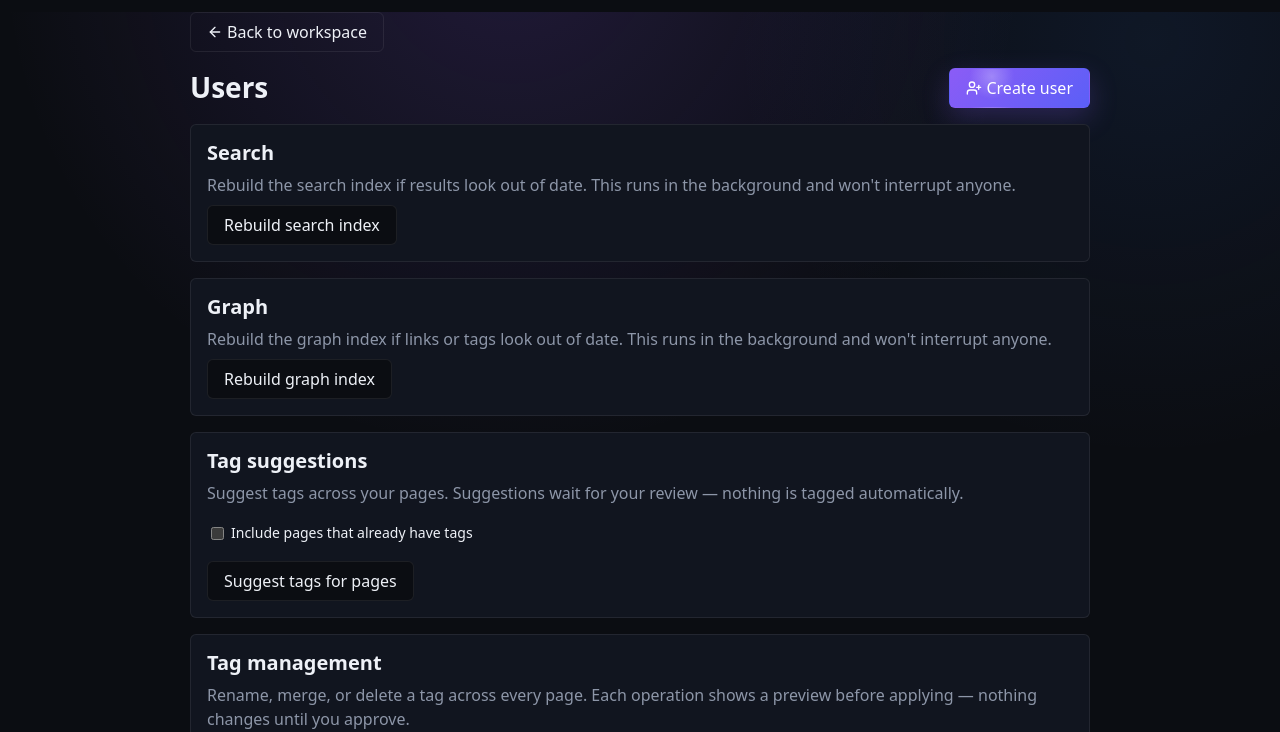
Scenario: Admin — Tag suggestions sweep-start (TAG-05) › toggling the scope on starts an all-pages sweep with the all-scope copy
Click the checkbox labelled "Include pages that already have tags" at (218, 533), box [211,526,224,540]
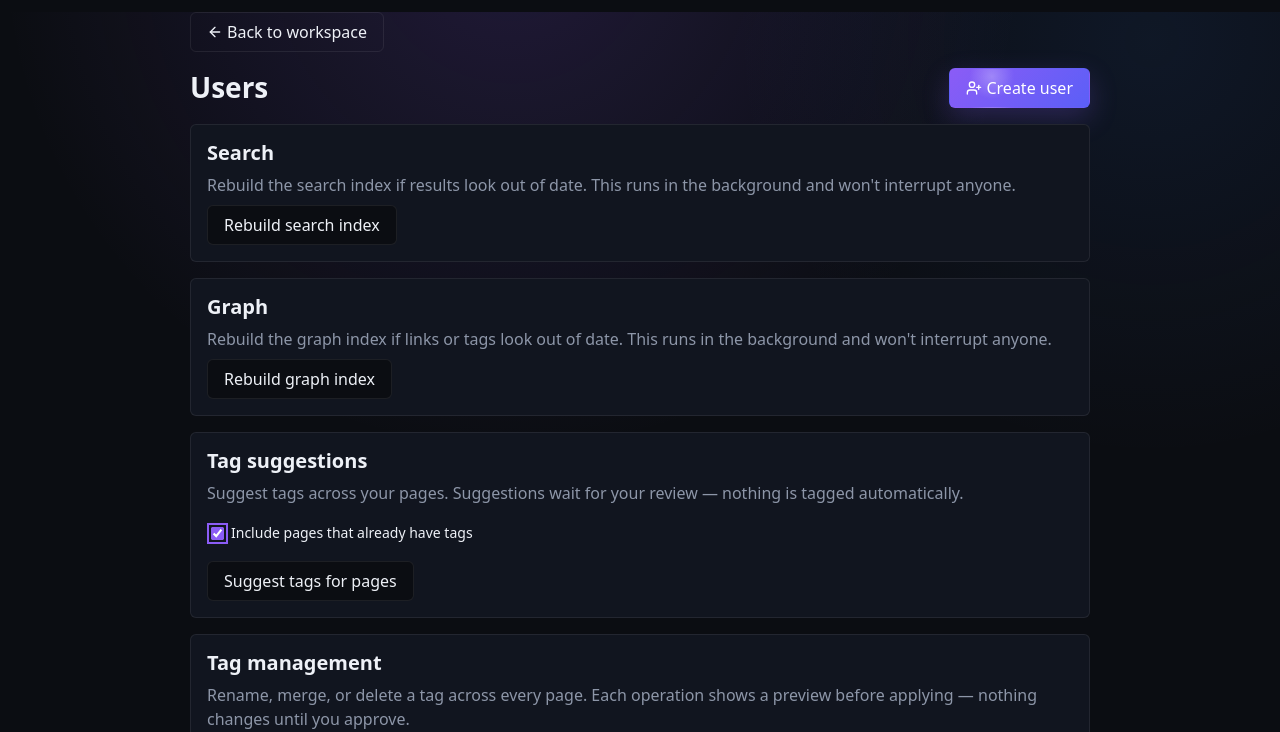
Click the button "Suggest tags for pages" at (310, 581), box [207,561,414,601]
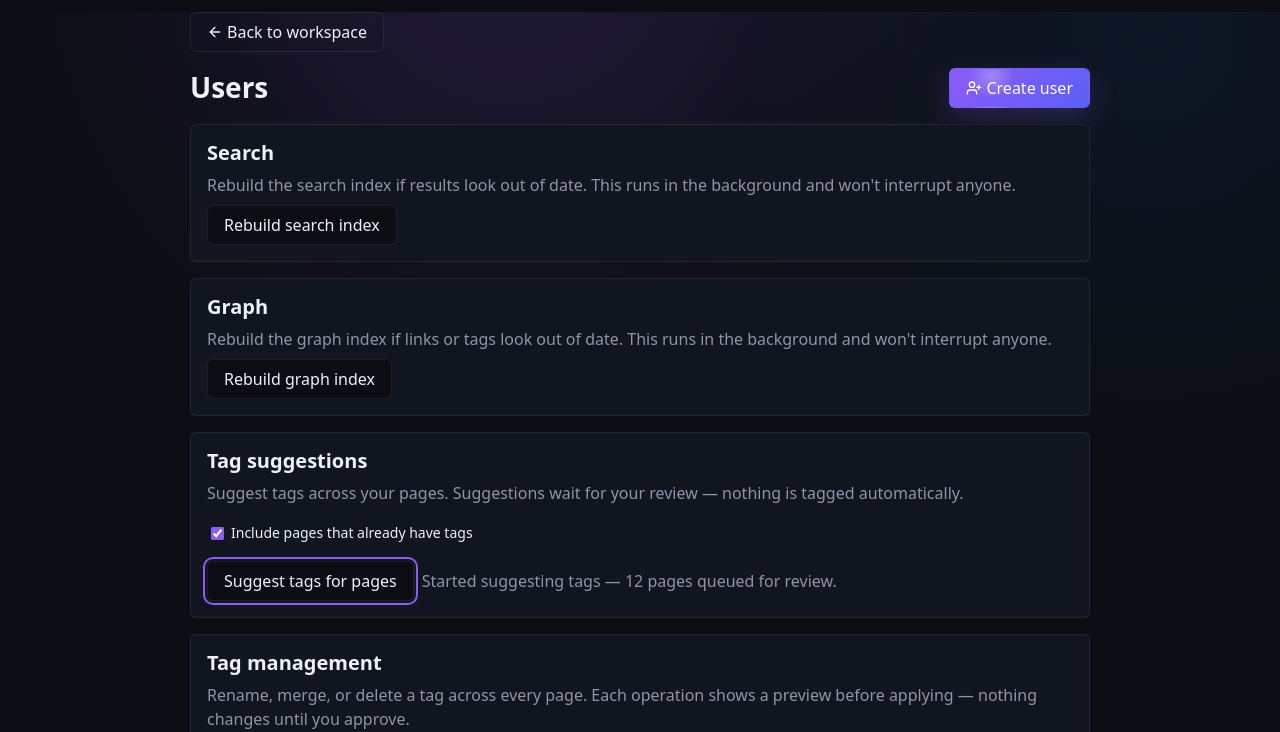
Check: the text "Started suggesting tags — 12 pages queued for review." is shown, box [422,569,837,593]
